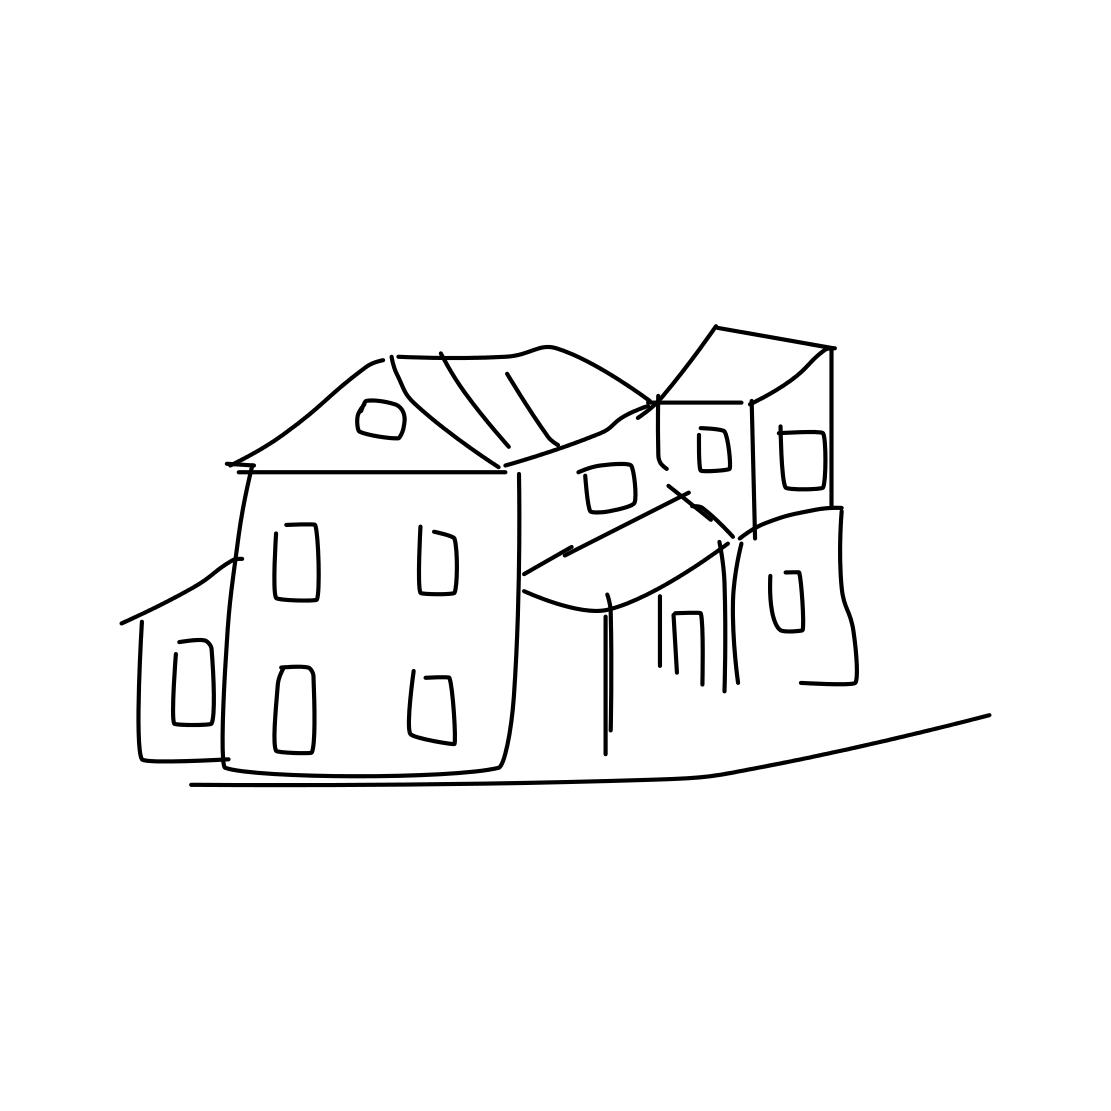House: (125, 310, 899, 788)
